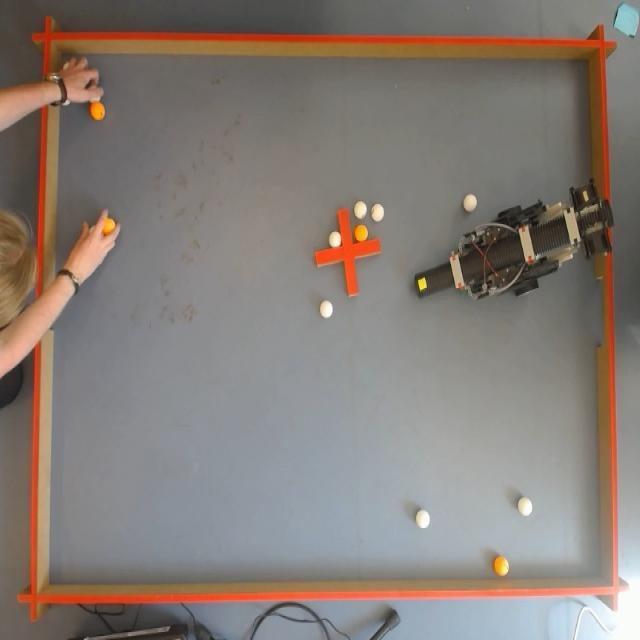orange: (494, 554, 511, 576), (91, 101, 108, 119), (356, 226, 366, 244)
robot: (424, 192, 606, 312)
white: (414, 508, 430, 530), (464, 193, 479, 213), (518, 498, 532, 517), (320, 298, 332, 318), (353, 199, 365, 219), (331, 230, 342, 250), (372, 204, 383, 222)
